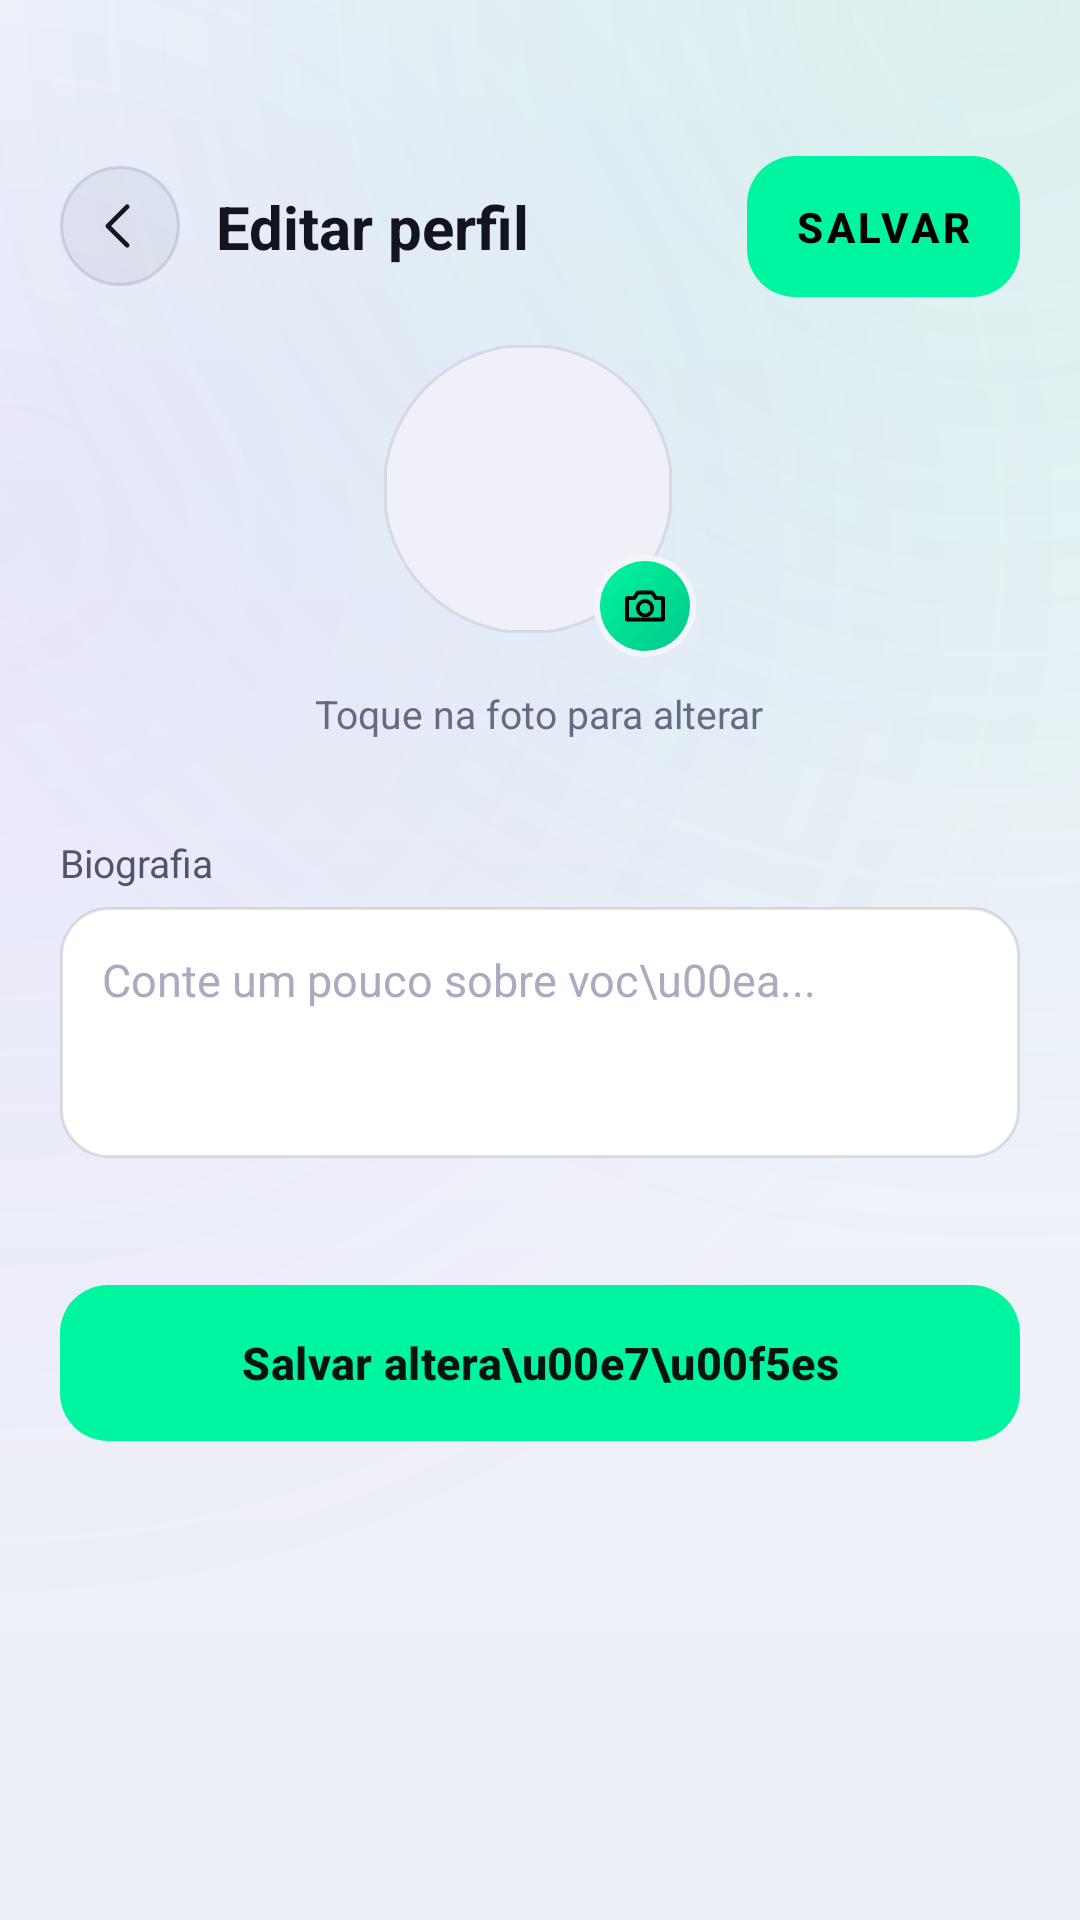

Icon click points for this 1080 x 1920 phone screenshot, format (x,y):
back: (120,226)
Câmera: (645,606)
